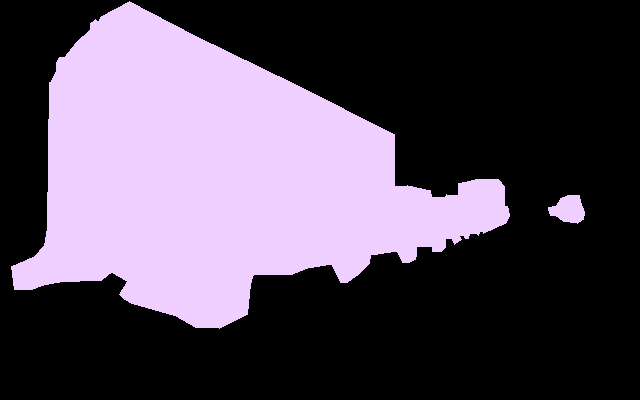Train: (11, 1, 509, 328), (548, 195, 585, 223)
